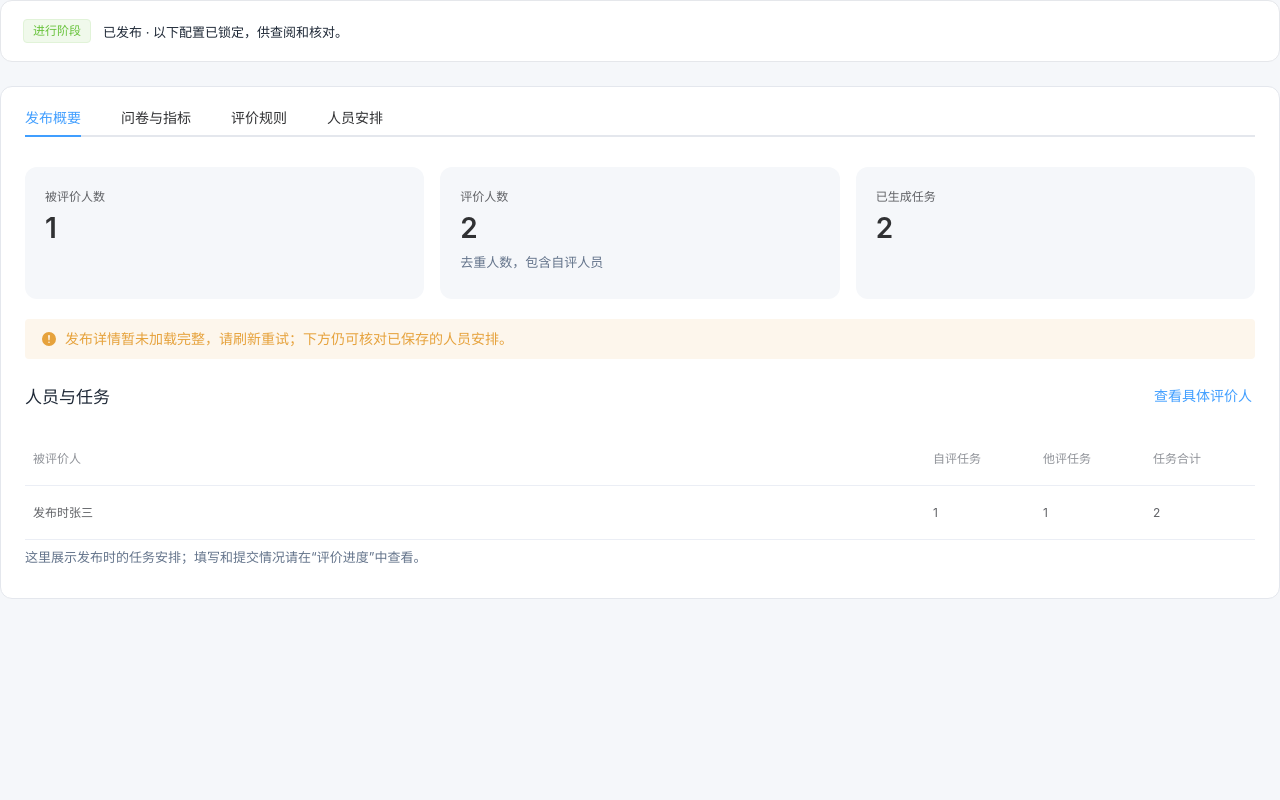
Scenario: 仅自评规则及缺少冻结详情的降级均有明确说明
This screenshot has width=1280, height=800.
Click the tab "评价规则": (259,118) [231,109,287,126]
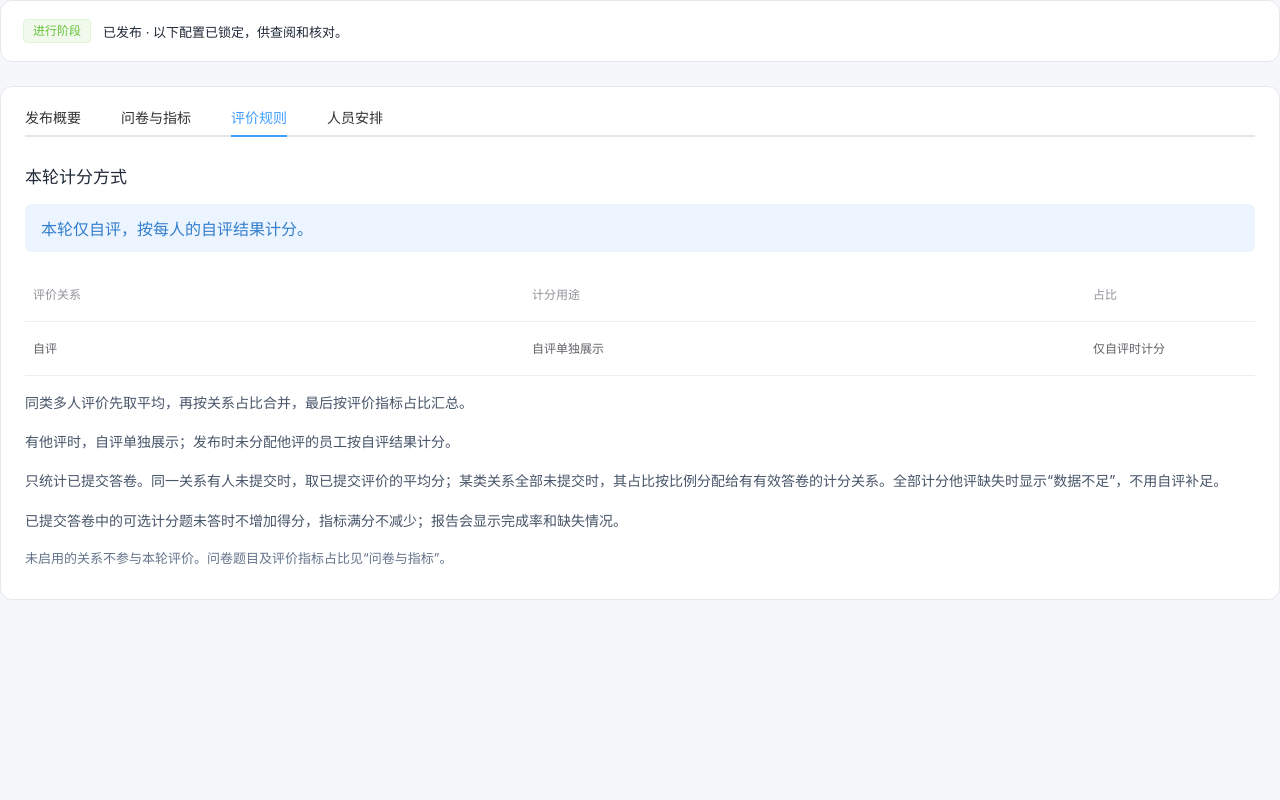
Expected: the text "本轮仅自评，按每人的自评结果计分。" is shown, [25,204,1255,252]
